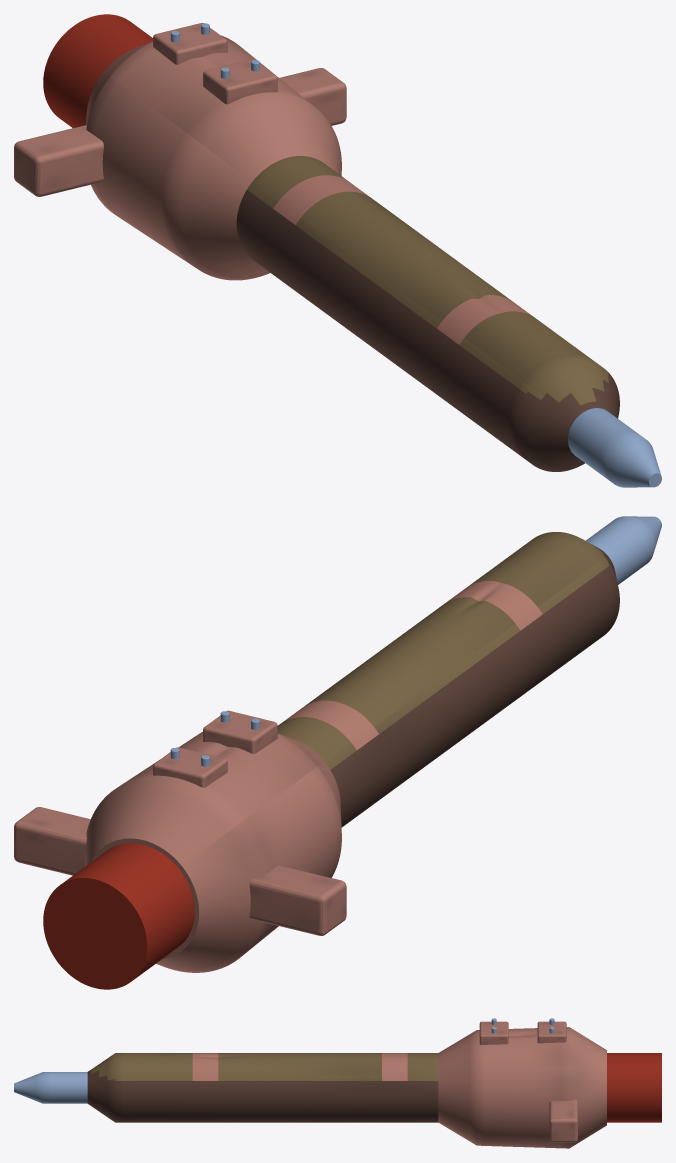
3 views of the same model, one above another, from view 1: azimuth 30°, elevation 25°; view 2: azimuth 150°, elevation 25°; view 3: azimuth 270°, elevation 25° (orthographic). The views are drawn at different scales.
Parts seen in each view (by area): view 1: Achaean Night Thief shaft, Achaean Night Thief shoulder, Achaean Night Thief rear, Achaean Night Thief lateral shoulder 0, Achaean Night Thief tip, Achaean Night Thief lateral shoulder 1, Achaean Night Thief service cover 0, Achaean Night Thief service cover 1; view 2: Achaean Night Thief shaft, Achaean Night Thief shoulder, Achaean Night Thief rear, Achaean Night Thief lateral shoulder 0, Achaean Night Thief lateral shoulder 1, Achaean Night Thief tip, Achaean Night Thief service cover 0, Achaean Night Thief service cover 1; view 3: Achaean Night Thief shaft, Achaean Night Thief shoulder, Achaean Night Thief rear, Achaean Night Thief tip, Achaean Night Thief lateral shoulder 1, Achaean Night Thief service cover 0, Achaean Night Thief service cover 1.
Boxes of the visible parts, box(x1,y1,x2,y2) form: Achaean Night Thief shaft: box(236, 156, 619, 471); Achaean Night Thief shoulder: box(86, 35, 341, 280); Achaean Night Thief rear: box(43, 14, 152, 127); Achaean Night Thief lateral shoulder 0: box(14, 125, 103, 196); Achaean Night Thief tip: box(568, 408, 661, 487); Achaean Night Thief lateral shoulder 1: box(279, 68, 346, 125); Achaean Night Thief service cover 0: box(203, 59, 277, 104); Achaean Night Thief service cover 1: box(153, 23, 227, 64); Achaean Night Thief shaft: box(277, 532, 619, 827); Achaean Night Thief shoulder: box(84, 732, 341, 972); Achaean Night Thief rear: box(43, 843, 194, 989); Achaean Night Thief lateral shoulder 0: box(249, 865, 346, 935); Achaean Night Thief lateral shoulder 1: box(14, 807, 90, 875); Achaean Night Thief tip: box(586, 516, 661, 584); Achaean Night Thief service cover 0: box(203, 710, 277, 753); Achaean Night Thief service cover 1: box(153, 747, 227, 787); Achaean Night Thief shaft: box(87, 1053, 438, 1122); Achaean Night Thief shoulder: box(438, 1027, 606, 1148); Achaean Night Thief rear: box(607, 1053, 661, 1122); Achaean Night Thief tip: box(14, 1072, 87, 1103); Achaean Night Thief lateral shoulder 1: box(549, 1099, 577, 1142); Achaean Night Thief service cover 0: box(479, 1021, 508, 1044); Achaean Night Thief service cover 1: box(537, 1021, 566, 1043).
Bounding box in the file's own units: 0.72 × 0.455 × 2.24.
Materials: 6 (3 with a texture image).
